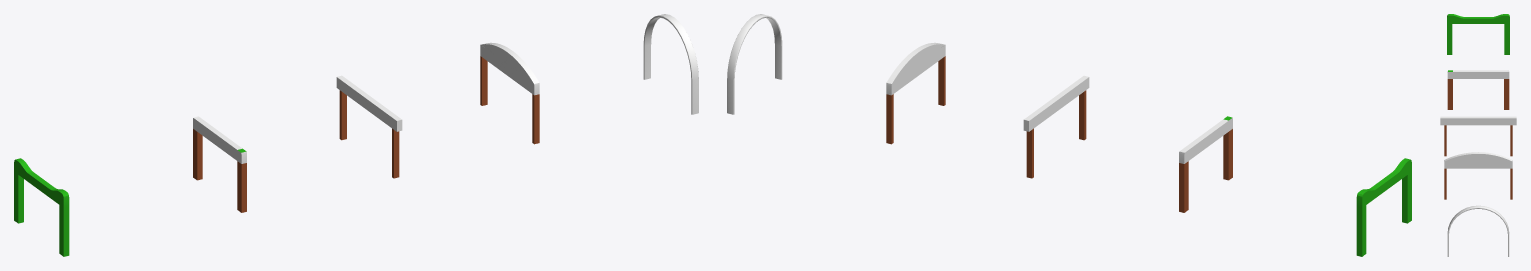
File: арки_1.fbx
The picture shows the model from 3 angles, left to right: view 1: azimuth 30°, elevation 25°; view 2: azimuth 150°, elevation 25°; view 3: azimuth 270°, elevation 25°; orthographic projection. The views are drawn at different scales.
Visible parts, largest first — view 1: Cube.011, Cube.006, Cube.009, Cube.010, Cube.013; view 2: Cube.011, Cube.006, Cube.009, Cube.010, Cube.013; view 3: Cube.011, Cube.010, Cube.009, Cube.006, Cube.013.
Part boxes in pixels (x1=…): Cube.011: x1=480, y1=42, x2=539, y2=144; Cube.006: x1=14, y1=158, x2=69, y2=256; Cube.009: x1=193, y1=116, x2=246, y2=212; Cube.010: x1=336, y1=75, x2=402, y2=178; Cube.013: x1=643, y1=14, x2=698, y2=114; Cube.011: x1=886, y1=42, x2=945, y2=144; Cube.006: x1=1356, y1=158, x2=1411, y2=256; Cube.009: x1=1179, y1=116, x2=1232, y2=212; Cube.010: x1=1023, y1=75, x2=1089, y2=178; Cube.013: x1=727, y1=14, x2=782, y2=114; Cube.011: x1=1444, y1=152, x2=1512, y2=199; Cube.010: x1=1440, y1=116, x2=1516, y2=156; Cube.009: x1=1447, y1=70, x2=1509, y2=109; Cube.006: x1=1447, y1=14, x2=1509, y2=54; Cube.013: x1=1447, y1=205, x2=1509, y2=256.
Size of the model in its own units: 4489 by 567 by 736.
